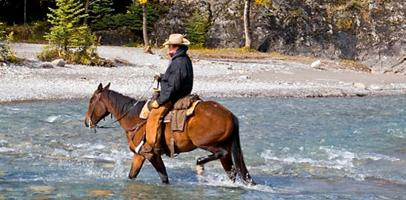person: (130, 34, 193, 162)
